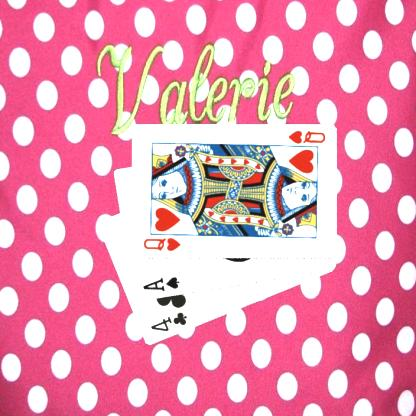4C: (148, 310, 188, 333)
AS: (140, 275, 180, 293)
QH: (280, 128, 326, 150), (140, 235, 181, 253)
